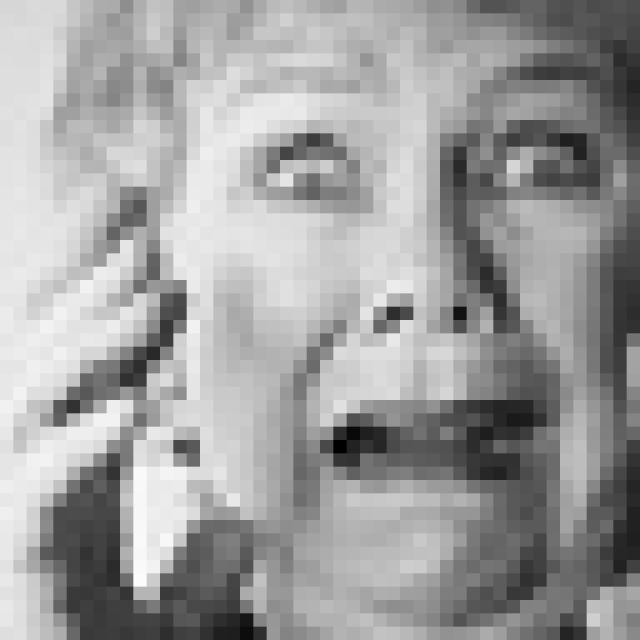fear: (214, 53, 640, 520)
